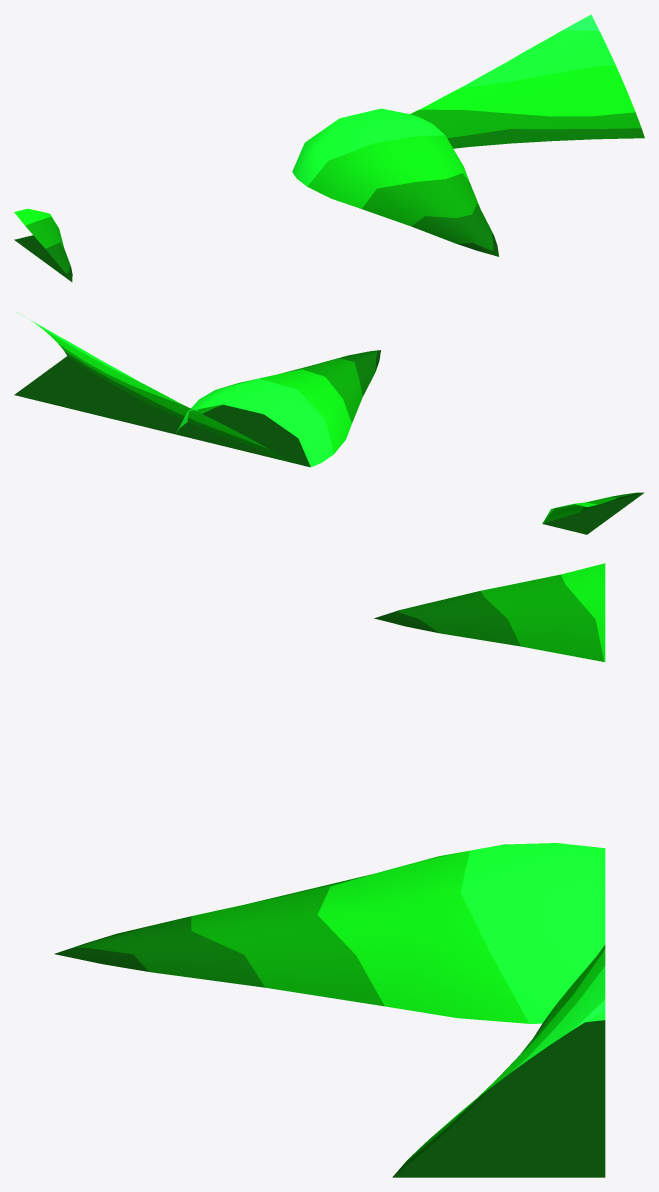
File: shot_charge_b288.glb
3 renders of one model, top to bottom at view 1: azimuth 30°, elevation 25°; view 2: azimuth 150°, elevation 25°; view 3: azimuth 270°, elevation 25°, orthographic. The views are drawn at different scales.
Visible parts, largest first — view 1: charge_great_wave_shot_charge_b288, charge_great_drip2_shot_charge_b288, charge_great_drip0_shot_charge_b288; view 2: charge_great_drip2_shot_charge_b288, charge_great_wave_shot_charge_b288, charge_great_drip0_shot_charge_b288; view 3: charge_great_drip2_shot_charge_b288, charge_great_wave_shot_charge_b288, charge_great_drip0_shot_charge_b288.
Boxes of the visible parts, bbox=[...] form: charge_great_wave_shot_charge_b288: bbox=[410, 14, 644, 148]; charge_great_drip2_shot_charge_b288: bbox=[292, 108, 499, 256]; charge_great_drip0_shot_charge_b288: bbox=[14, 208, 72, 281]; charge_great_drip2_shot_charge_b288: bbox=[175, 350, 380, 467]; charge_great_wave_shot_charge_b288: bbox=[14, 312, 289, 461]; charge_great_drip0_shot_charge_b288: bbox=[542, 492, 644, 534]; charge_great_drip2_shot_charge_b288: bbox=[54, 843, 605, 1023]; charge_great_wave_shot_charge_b288: bbox=[392, 944, 605, 1177]; charge_great_drip0_shot_charge_b288: bbox=[374, 563, 605, 661].
Size of the model in its own units: 12 by 1.68 by 5.
